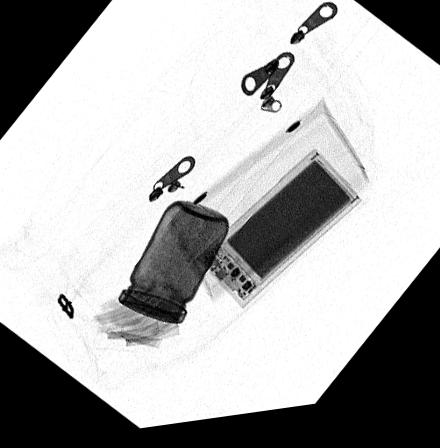Powerbank: (195, 155, 365, 315)
